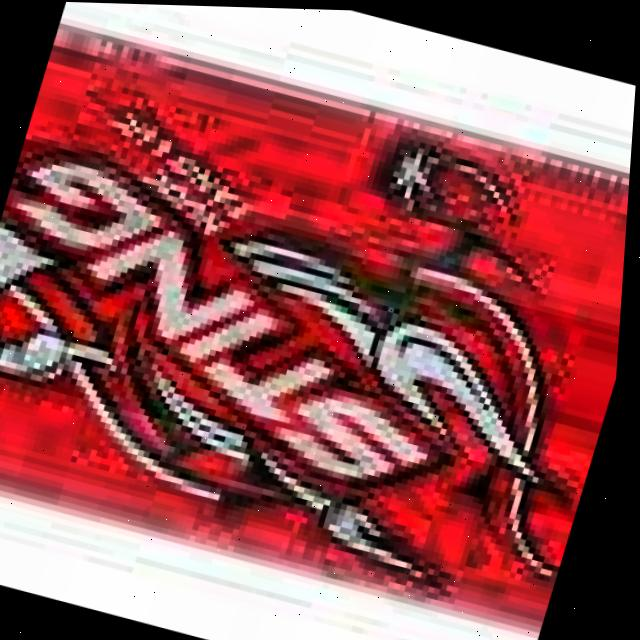metal: (0, 3, 640, 640)
